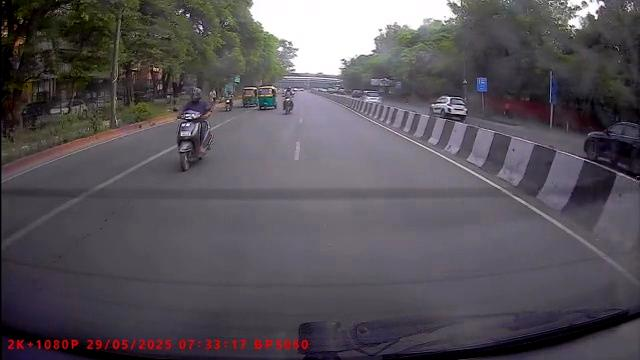motorcycle_with_helmet: (175, 84, 214, 173)
